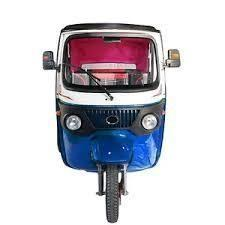keke: (54, 12, 174, 225)
